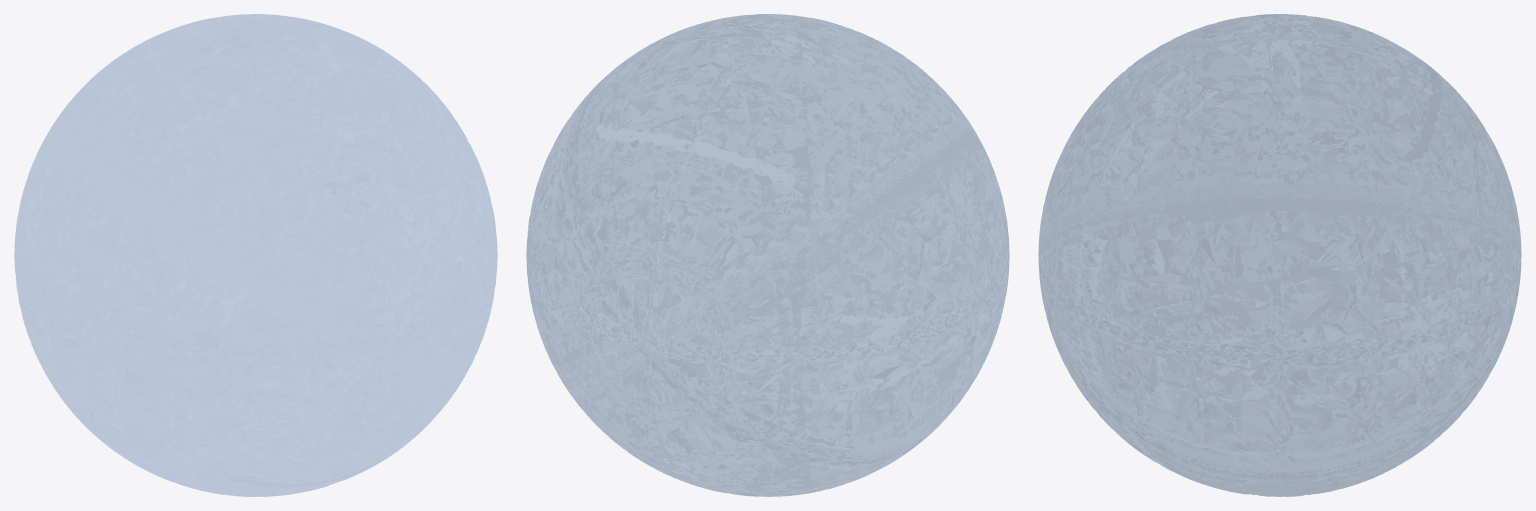
Rendered from row_2.glb.
The picture shows the model from 3 angles, left to right: view 1: azimuth 30°, elevation 25°; view 2: azimuth 150°, elevation 25°; view 3: azimuth 270°, elevation 25°; orthographic projection.
Visible parts, largest first — view 1: row_2; view 2: row_2; view 3: row_2.
Part boxes in pixels (x1,y1,x2,y2): row_2: [14, 14, 497, 496]; row_2: [526, 14, 1009, 496]; row_2: [1038, 14, 1521, 496].
Size of the model in its own units: 2 by 2 by 2.
